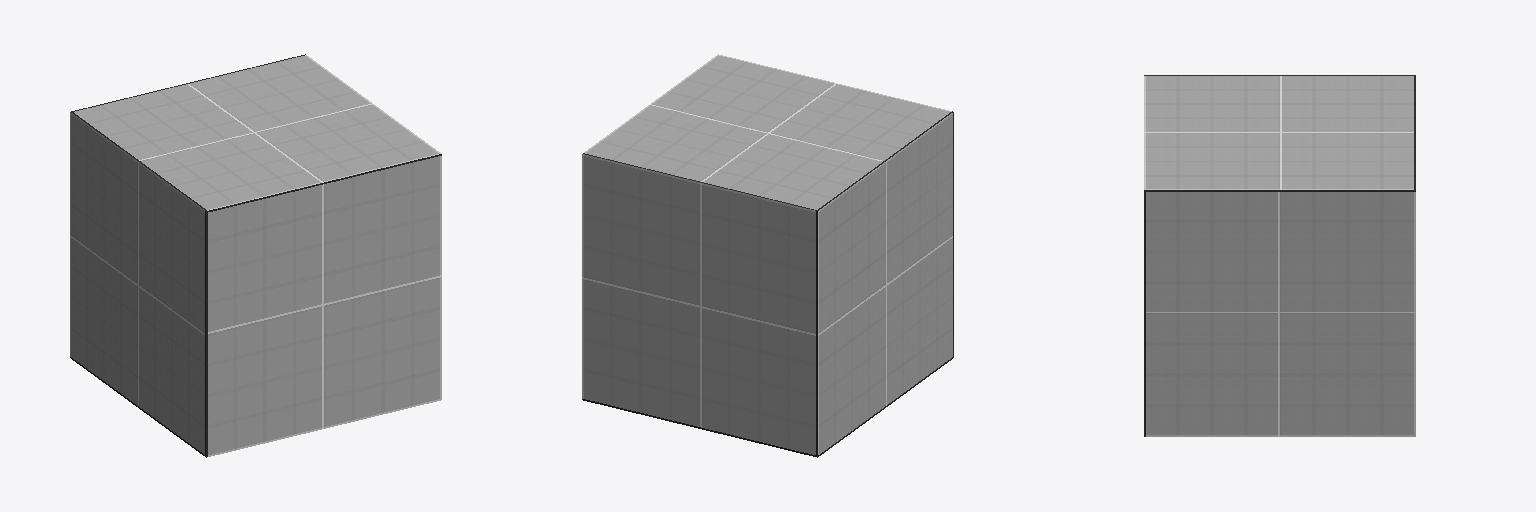
3 renders of one model, left to right at view 1: azimuth 30°, elevation 25°; view 2: azimuth 150°, elevation 25°; view 3: azimuth 270°, elevation 25°, orthographic.
Visible parts, largest first — view 1: Cube; view 2: Cube; view 3: Cube.
Boxes of the visible parts, x1=… form: Cube: x1=70, y1=54, x2=441, y2=457; Cube: x1=582, y1=54, x2=953, y2=457; Cube: x1=1144, y1=75, x2=1415, y2=436.
Bounding box in the file's own units: 4 × 4 × 4.
Materials: 1 (1 with a texture image).